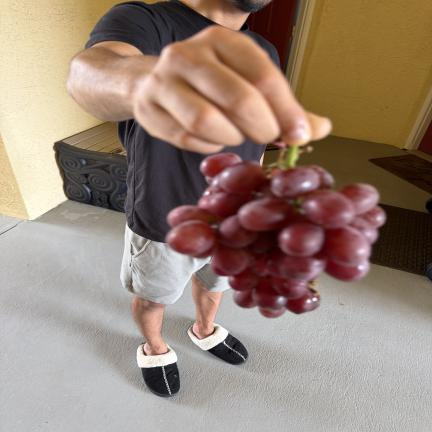grape_cluster: (165, 142, 386, 317)
